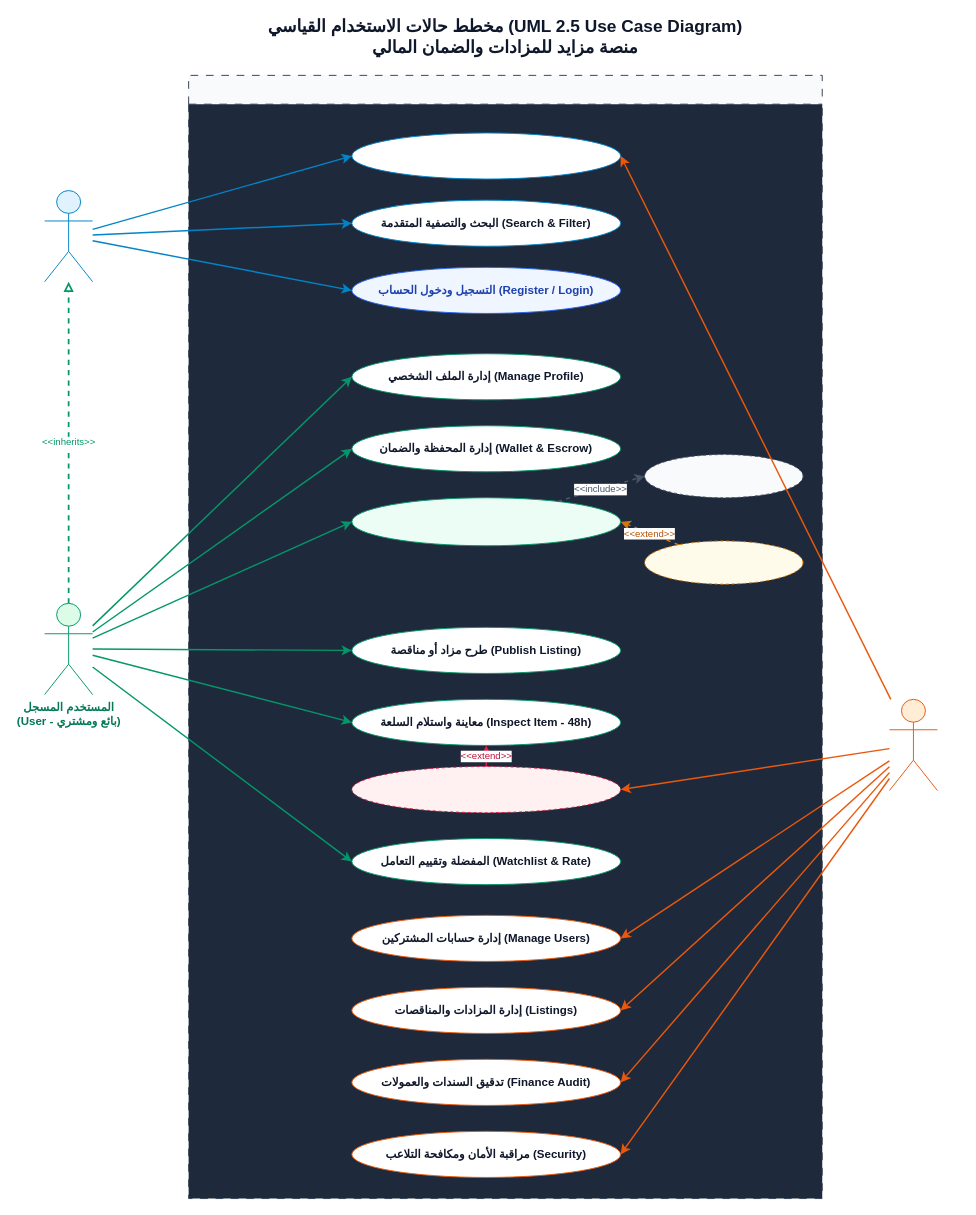
The diagram is 976 pixels wide and 1215 high, and some of its shapes have lost their labels. Here are the shapes that lost their labels. From the top down, the centre of each, then its label:
At (486,155): "تصفح المزادات والمناقصات (Browse Listings)".
At (68,236): "الـزائـر (Guest / Visitor)".
At (723,476): "حجز مبلغ التأمين (Hold Deposit)".
At (486,521): "المزايدة وتقديم العروض (Submit Bid/Offer)".
At (723,562): "تمديد وقت المزاد (Extend Time)".
At (912,744): "مدير النظام (Platform Admin)".
At (486,789): "فتح نزاع تحكيمي (Open Dispute)".
